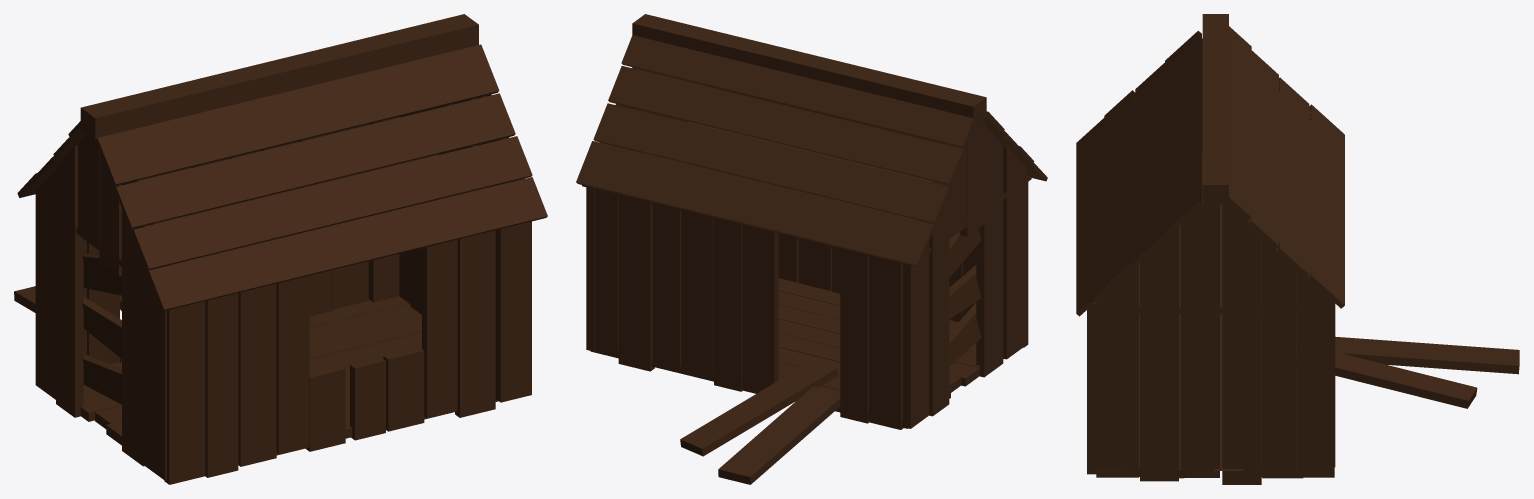
Rendered from Ветхий дом.obj.
The picture shows the model from 3 angles, left to right: view 1: azimuth 30°, elevation 25°; view 2: azimuth 150°, elevation 25°; view 3: azimuth 270°, elevation 25°; orthographic projection. The views are drawn at different scales.
Parts seen in each view (by area): view 1: Cube.048; view 2: Cube.048; view 3: Cube.048.
Boxes of the visible parts, bbox=[...] form: Cube.048: bbox=[14, 14, 547, 484]; Cube.048: bbox=[576, 14, 1047, 484]; Cube.048: bbox=[1076, 14, 1519, 484].
Bounding box in the file's own units: 4.4 × 3.68 × 4.82.
